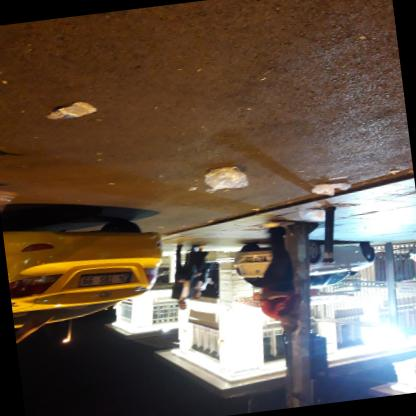Plastic: (202, 164, 247, 192), (45, 100, 95, 118), (310, 181, 350, 194), (297, 207, 324, 219)
Waste: (389, 168, 398, 173), (188, 185, 196, 189)
